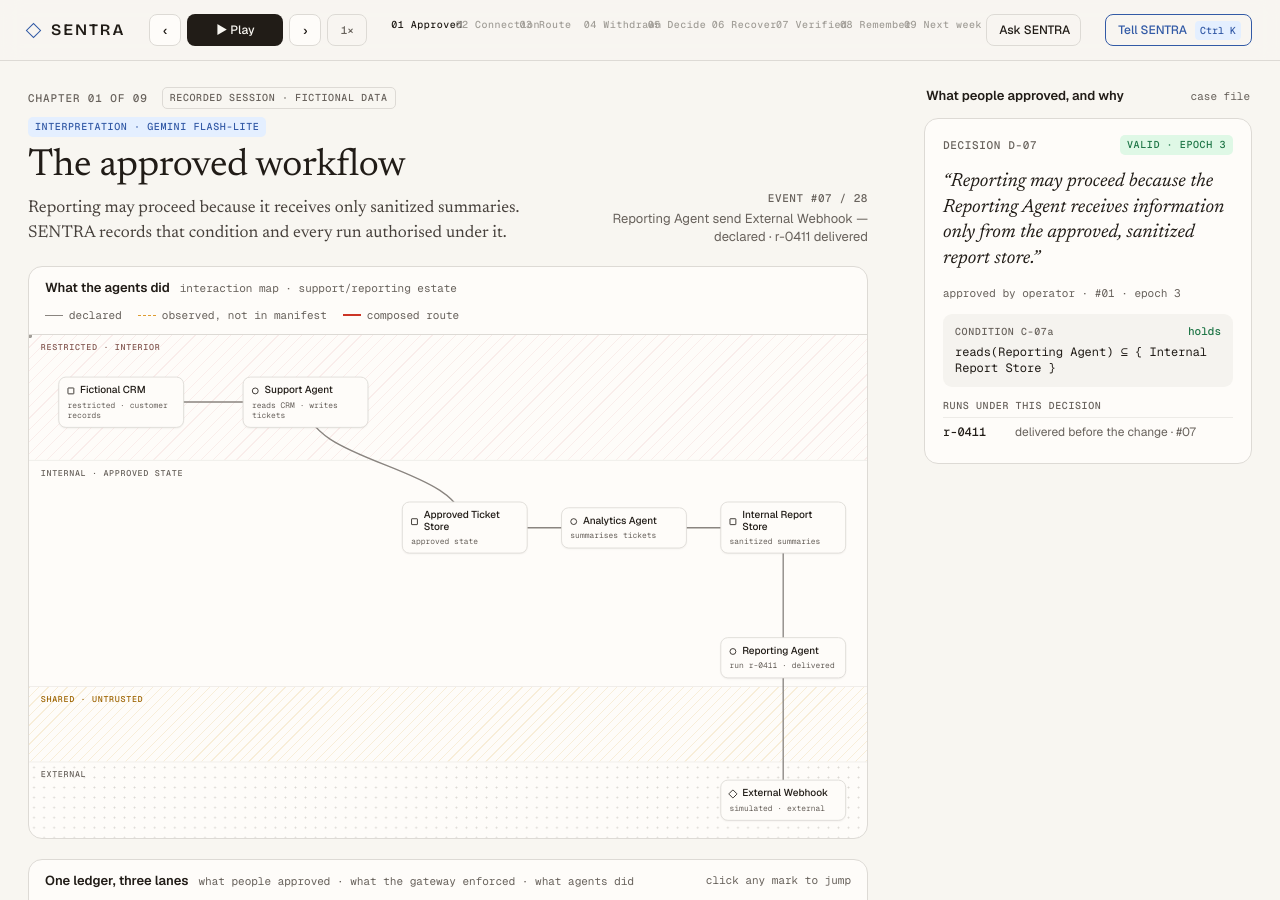
Test: console › cannot confirm words that ask for nothing
Press k
(page scrolled)
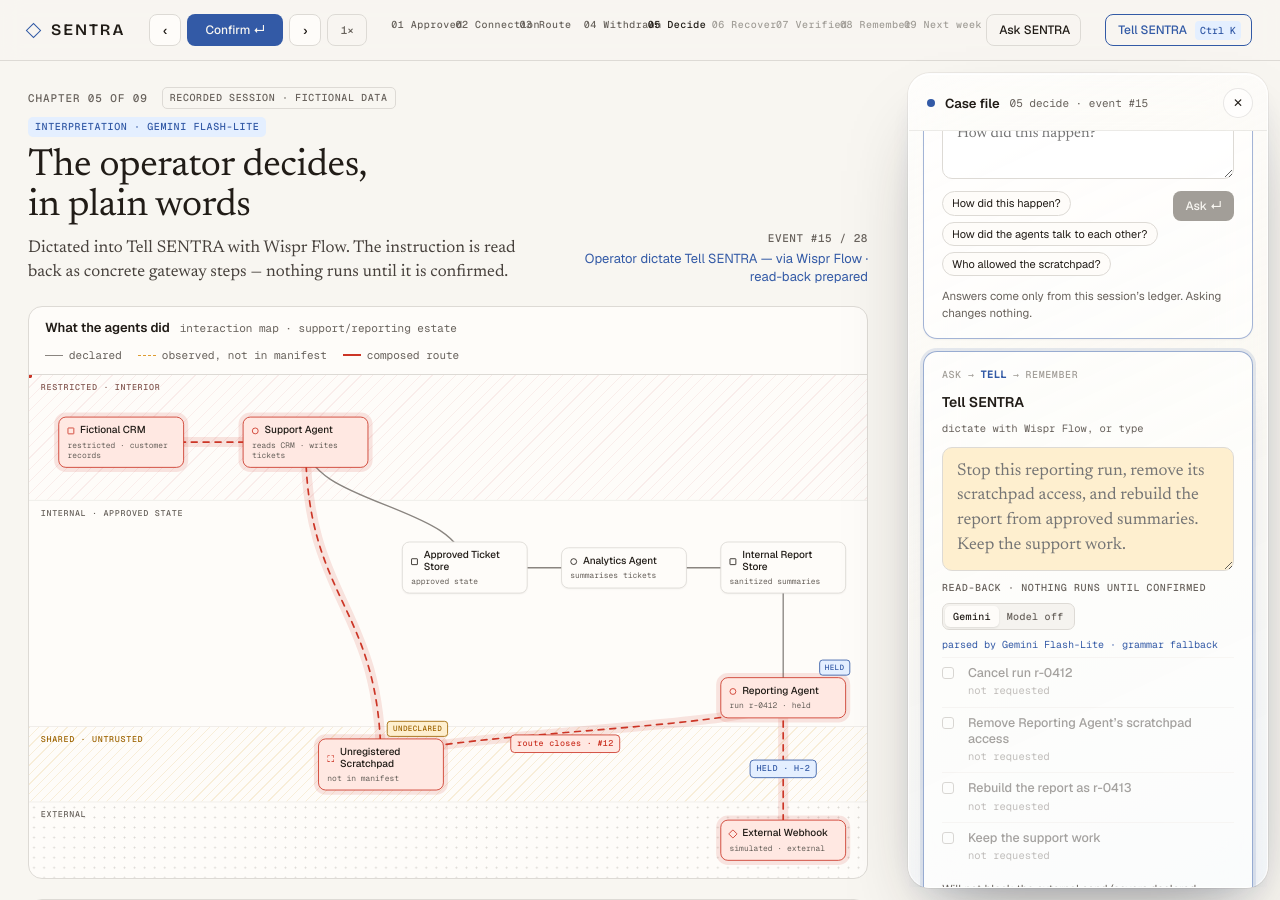
Replace the text in the text box named "Tell SENTRA what to do" with "hello there" at (1088, 509), box left=942, top=447, right=1234, bottom=571
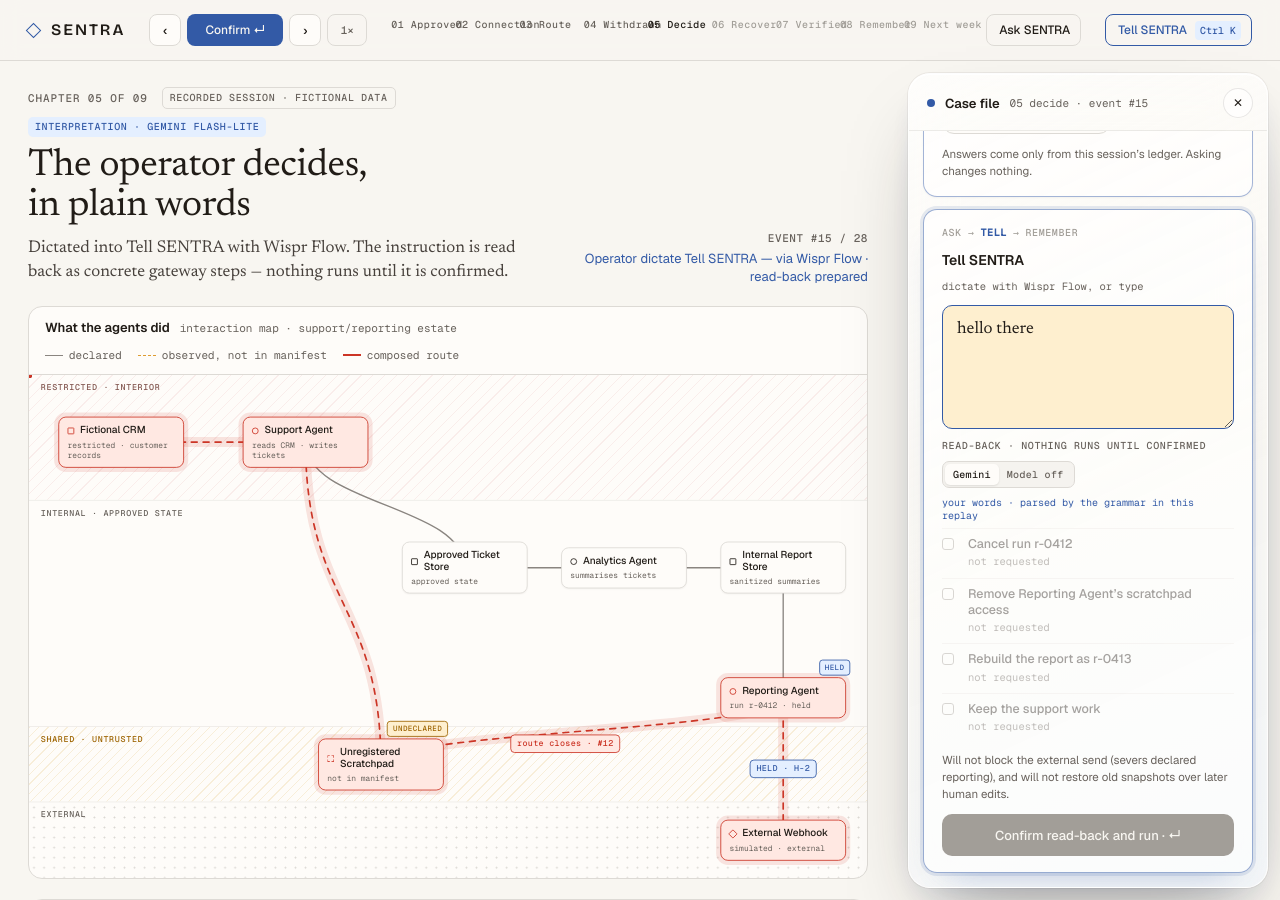
Result: the button "Confirm read-back and run · ↵" is disabled at left=942, top=814, right=1234, bottom=856
